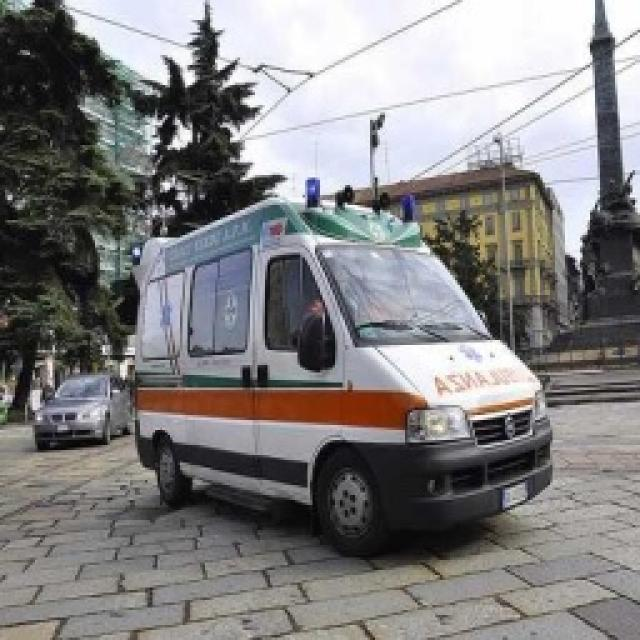emergency-vehicle: (89, 162, 640, 540)
